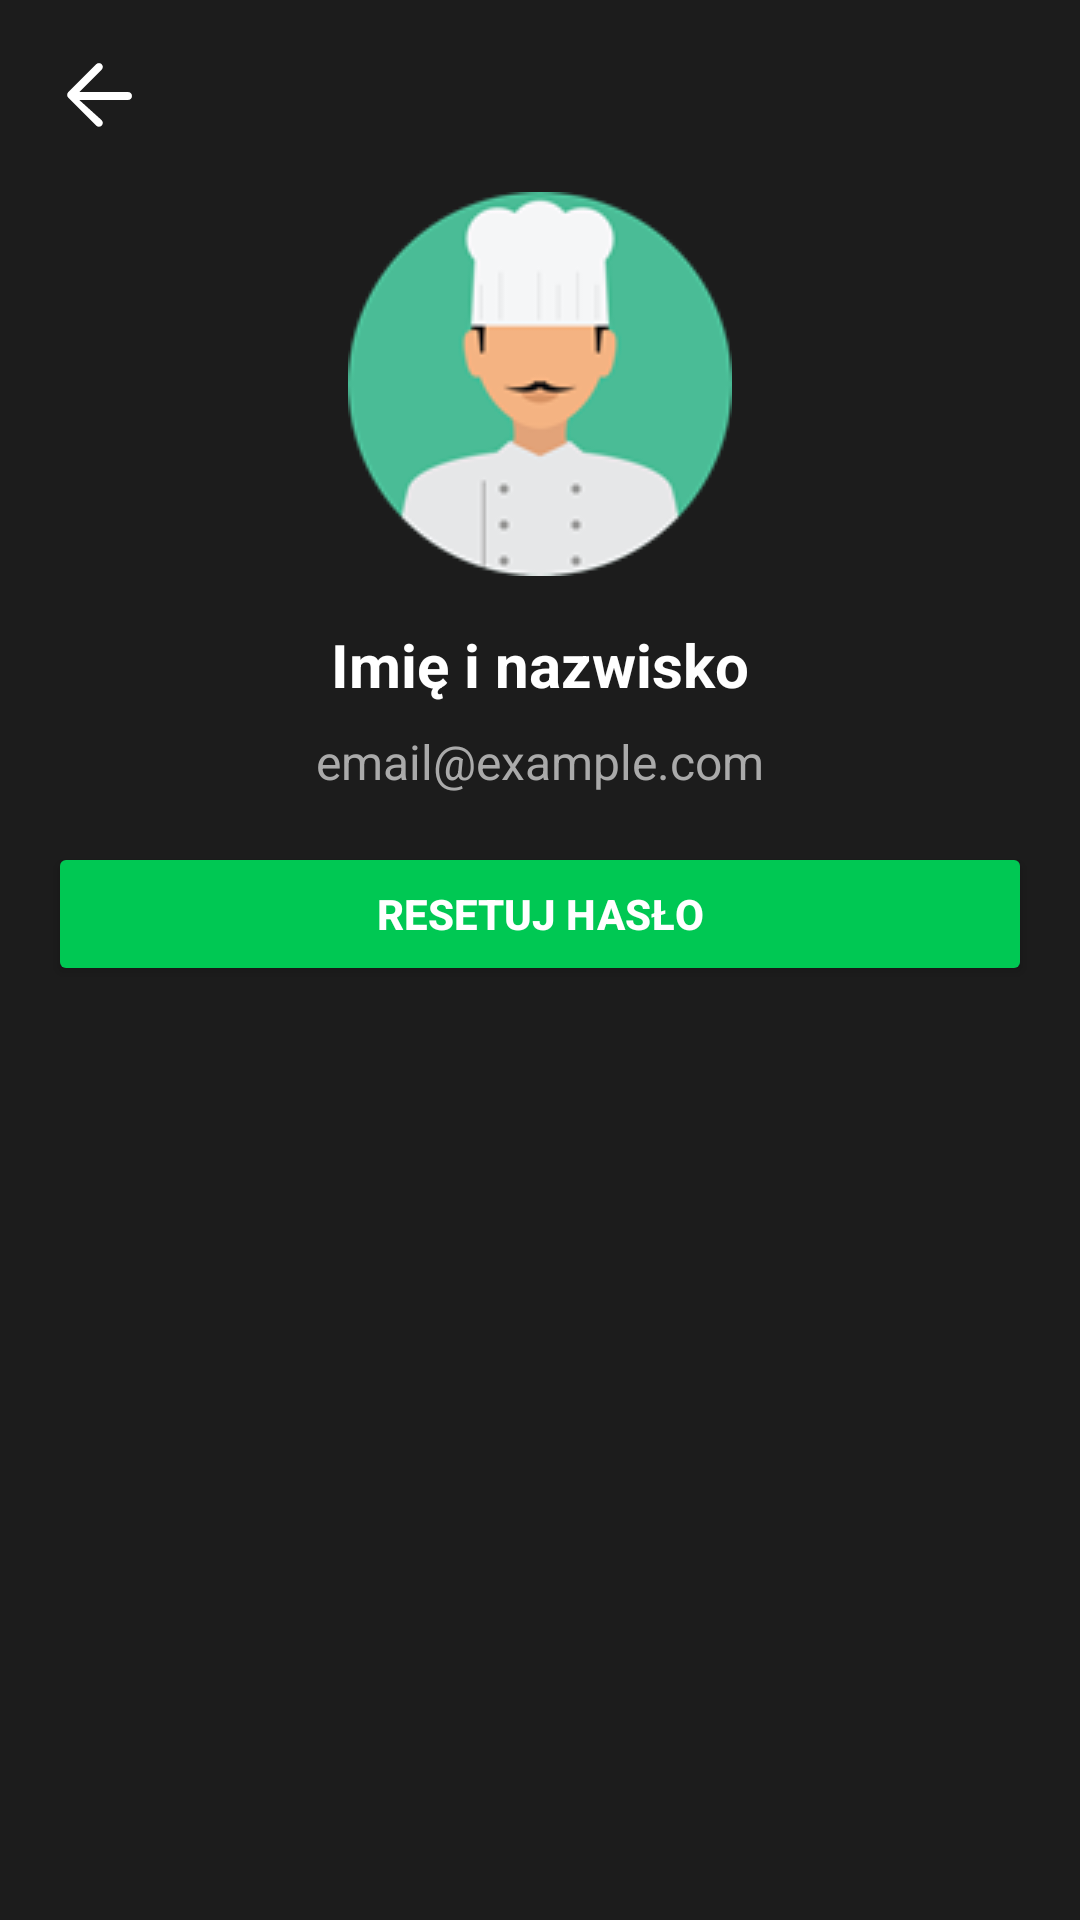

Locate icon controls on the screen. Image size 1080px×1920px, boxes as (x1, y1, x2, y2).
Powrót: (67, 63, 132, 127)
